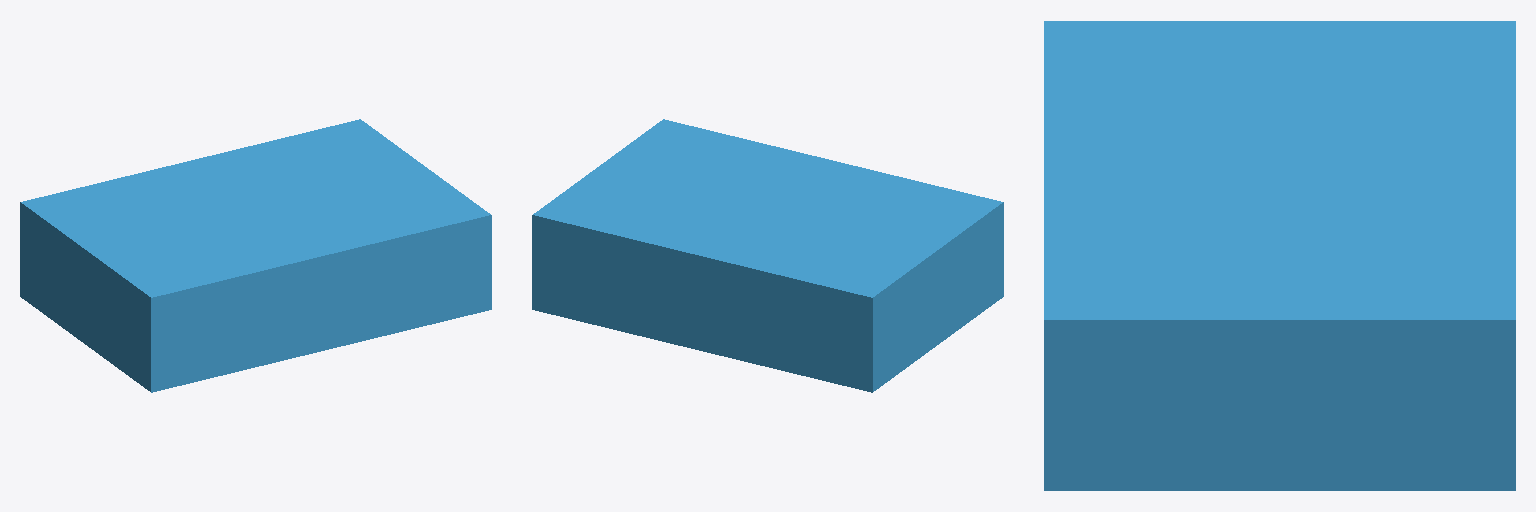
URDF robot description (HelloRover):
<?xml version="1.0" ?>
<robot name="HelloRover">

  <!-- A phantom link located at ground level. -->
  <link name="base_footprint" />

  <!-- Main chassis frame. -->
  <link name="base_link">
    <visual>
      <origin xyz="0 0 0" rpy="0 0 0" />
      <geometry>
        <box size="0.30 0.20 0.08" />
      </geometry>
    </visual>
    <collision>
      <origin xyz="0 0 0" rpy="0 0 0" />
      <geometry>
        <box size="0.30 0.20 0.08" />
      </geometry>
    </collision>
    <inertial>
      <origin xyz="0 0 0" rpy="0 0 0" />
      <mass value="2.0" />
      <inertia ixx="0.01" ixy="0.0" ixz="0.0" iyy="0.02" iyz="0.0" izz="0.02" />
    </inertial>
  </link>

  <joint name="base_footprint_joint" type="fixed">
    <parent link="base_footprint" />
    <child link="base_link" />
    <origin xyz="0 0 0.05" rpy="0 0 0" />
  </joint>

  <link name="left_wheel_mount" />

  <joint name="left_wheel_mount_joint" type="fixed">
    <parent link="base_link" />
    <child link="left_wheel_mount" />
    <origin xyz="0 0.15 -0.05" rpy="-1.5708 0 0" />
  </joint>

  <link name="right_wheel_mount" />

  <joint name="right_wheel_mount_joint" type="fixed">
    <parent link="base_link" />
    <child link="right_wheel_mount" />
    <origin xyz="0 -0.15 -0.05" rpy="1.5708 0 0" />
  </joint>

</robot>

--- What the picture shows (computed from the rendered views, not written in the file) ---
The picture shows the robot from 3 angles, left to right: view 1: azimuth 30°, elevation 25°; view 2: azimuth 150°, elevation 25°; view 3: azimuth 270°, elevation 25°; orthographic projection.
Model HelloRover with 4 links and 3 joints (3 fixed), rooted at base_footprint, posed every joint at zero.
Links seen in each view (by area): view 1: base_link; view 2: base_link; view 3: base_link.
Boxes of the visible links, x1,y1,x2,y2 form: base_link: (20, 119, 491, 392); base_link: (532, 119, 1003, 392); base_link: (1044, 21, 1515, 490).
Bounding box of the posed robot: 0.3 × 0.2 × 0.08 m (x, y, z).
Geometry: primitives only (box / cylinder / sphere), no mesh files.
